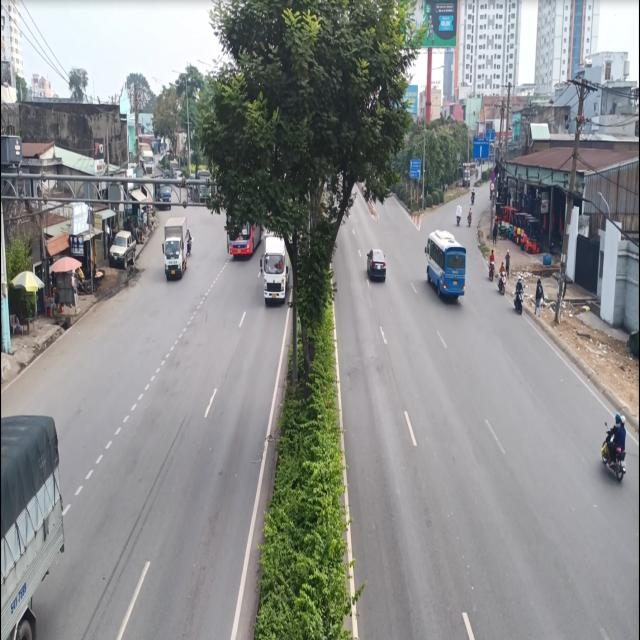bus: (421, 223, 472, 313)
car: (364, 237, 388, 287)
motor: (602, 402, 633, 491)
truck: (160, 208, 188, 284)
